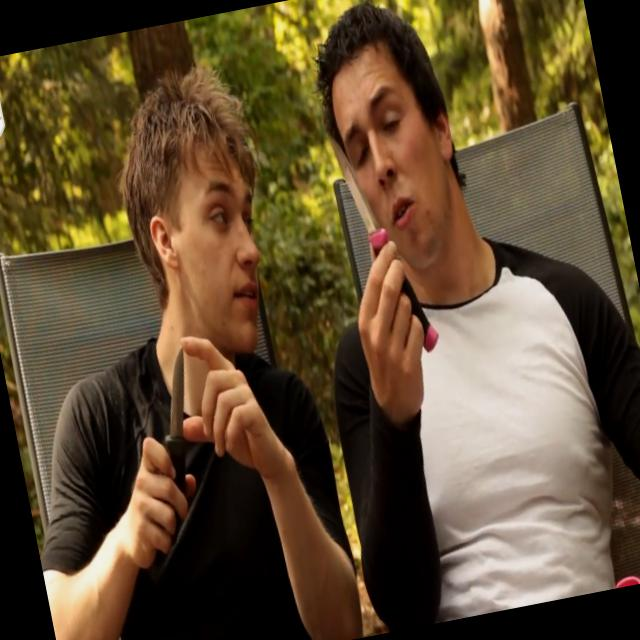knife: (313, 101, 418, 316), (125, 334, 220, 506)
